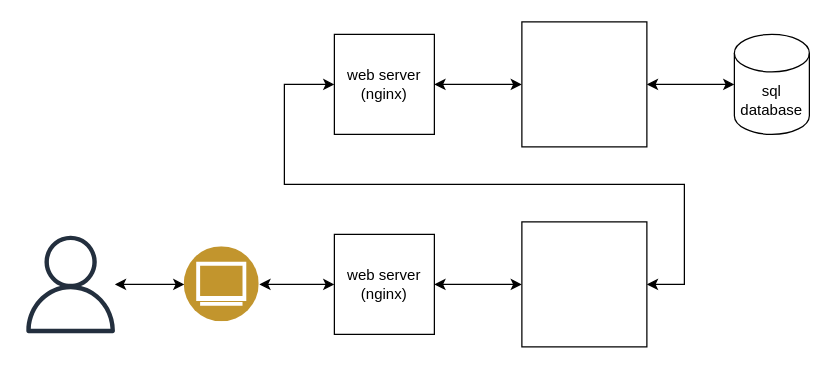
This 831x369 diagram has some shape labels left out. The shapes that lost their labels are listed below. From the top down, each one's centre as x and y in pixels, then its label:
pixel 584 84: backend (written in compiled programming language)
pixel 584 284: frontend (assets are on the same server)
